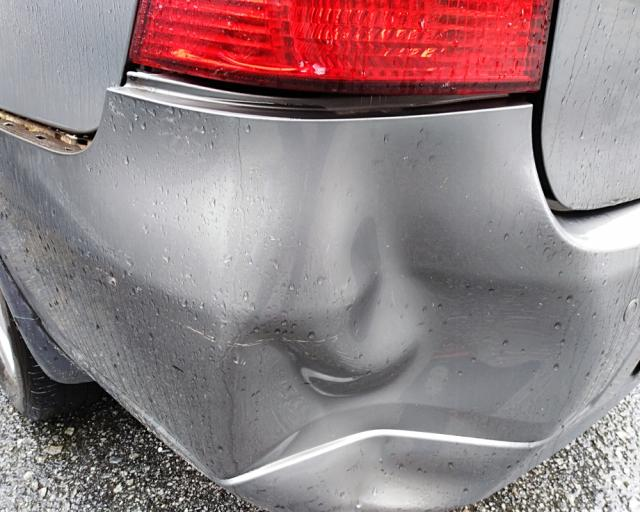dent: (226, 134, 575, 512)
